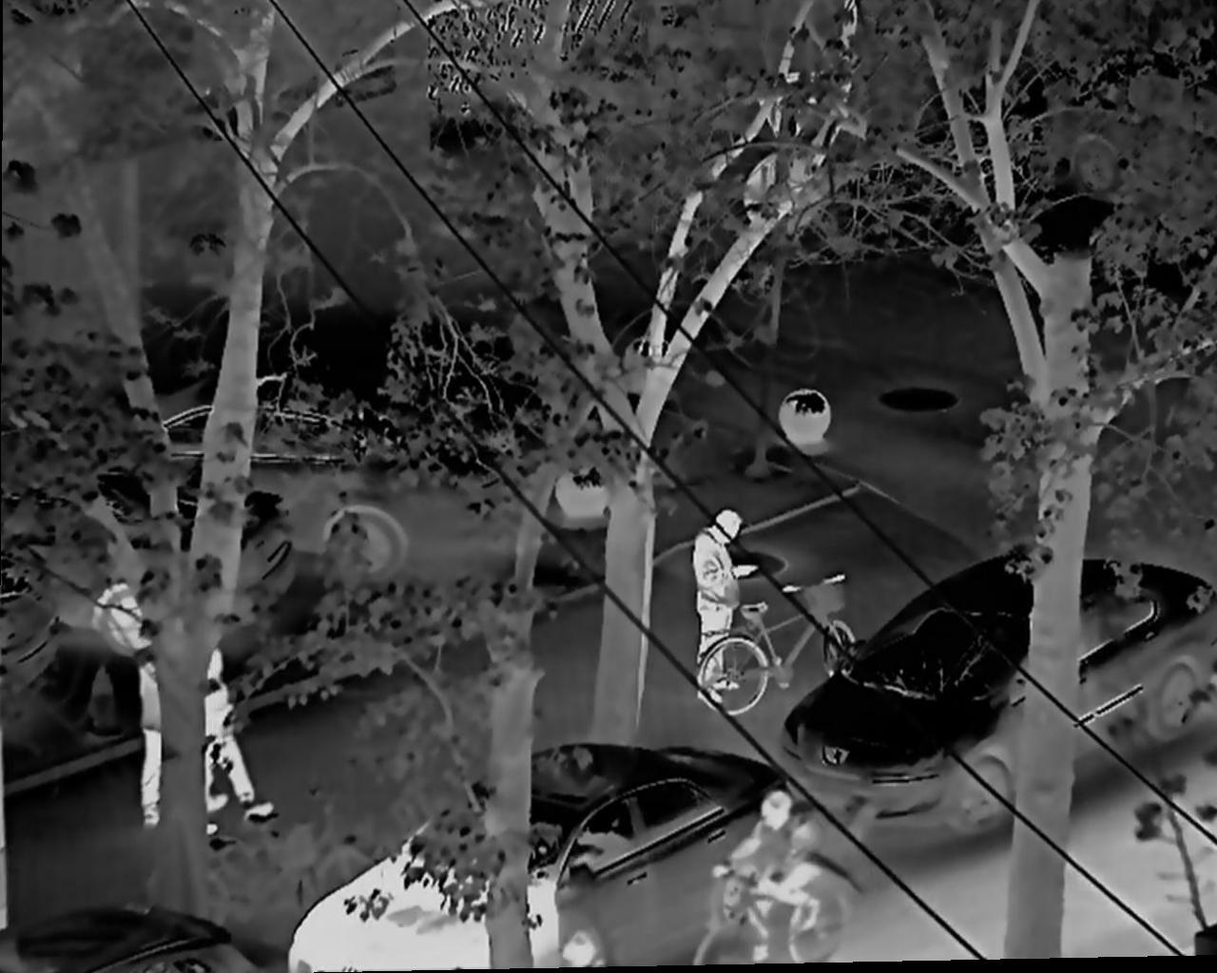person: (713, 791, 820, 930), (692, 507, 757, 704), (203, 647, 276, 817)
